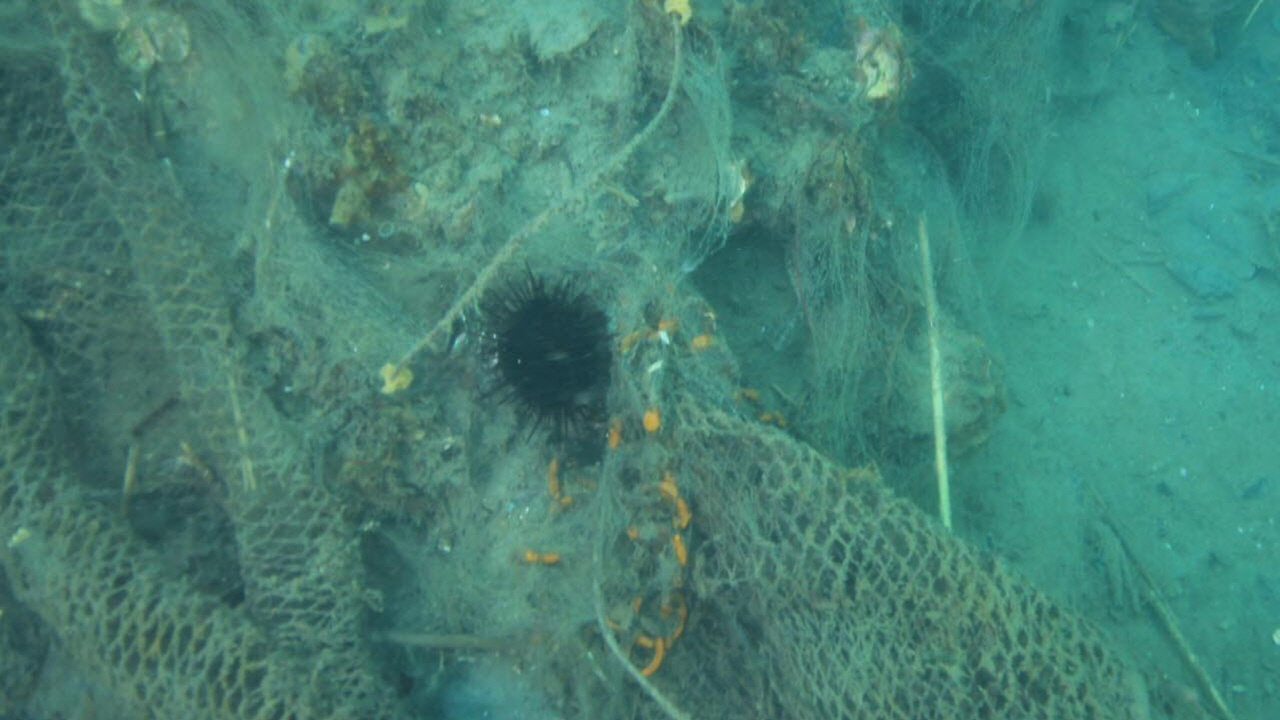fish net: (0, 0, 415, 720), (671, 389, 1147, 720)
